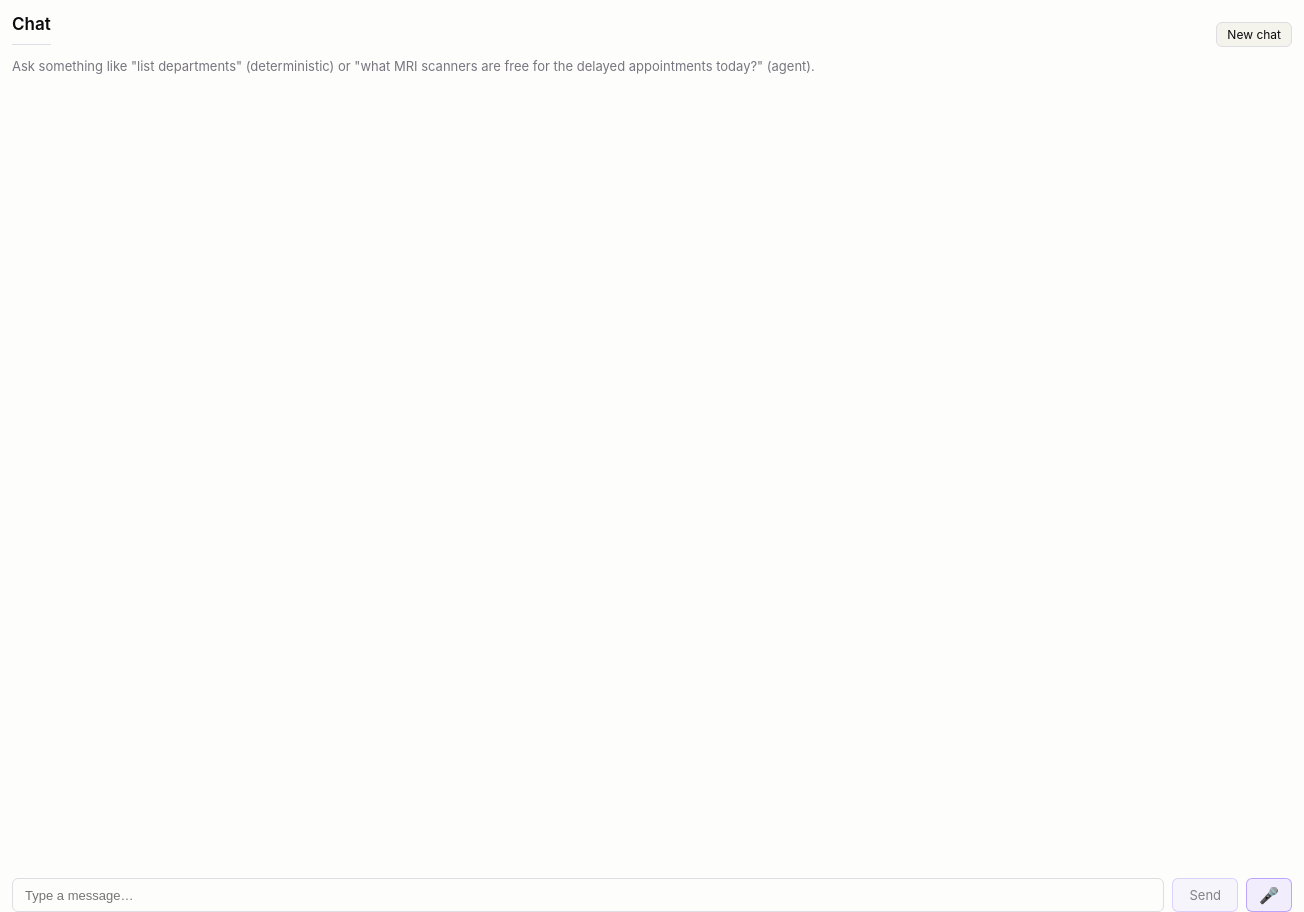
Test case: BedActionConfirmation in the chat › Cancel posts the right ids, shows the message and removes the card
Type "admit PT-1029" into the field with placeholder "Type a message…" at coordinates (588, 895), box [12,878,1164,911]
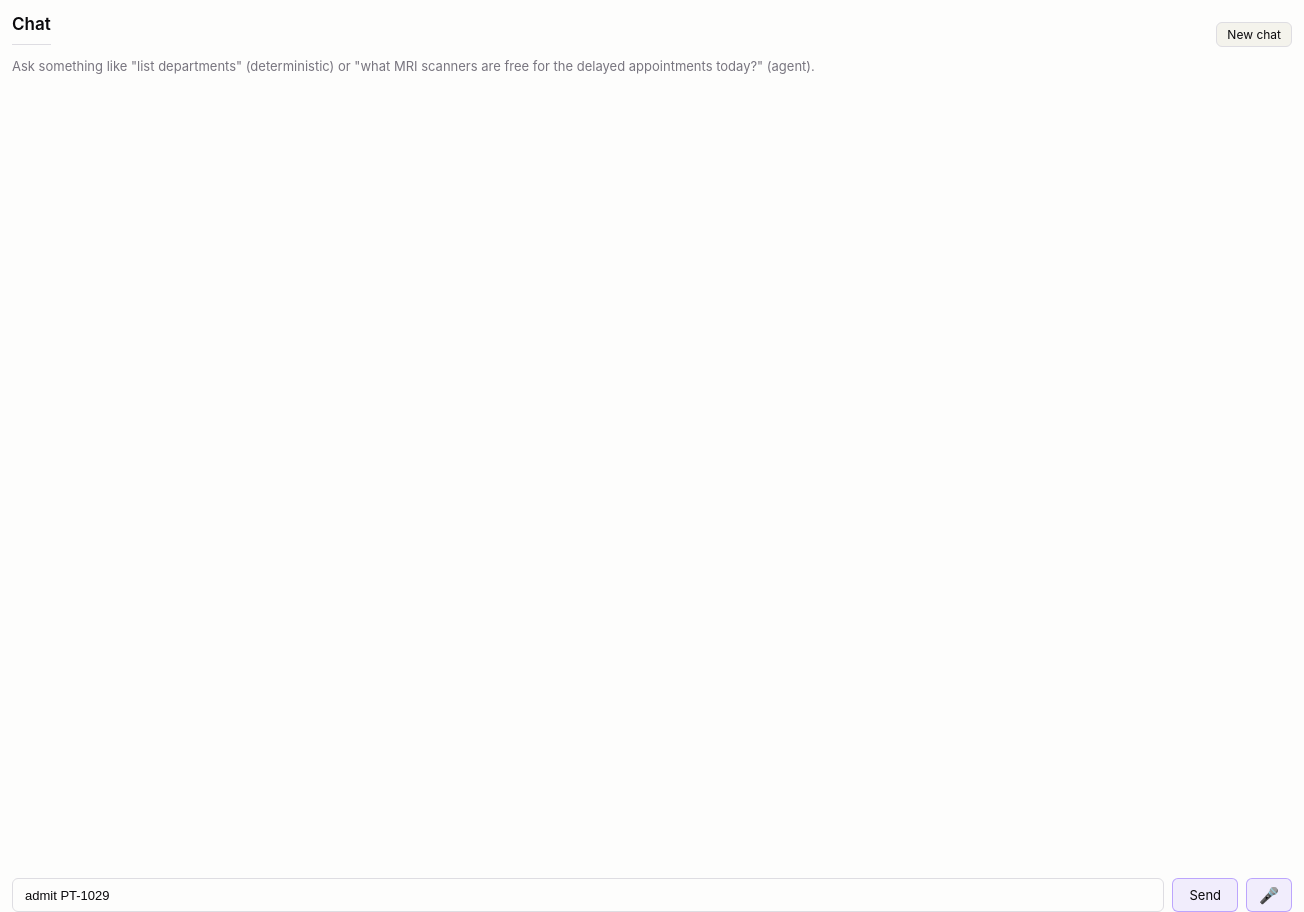
Click the button "Send" at coordinates (1205, 895), box [1172,878,1238,911]
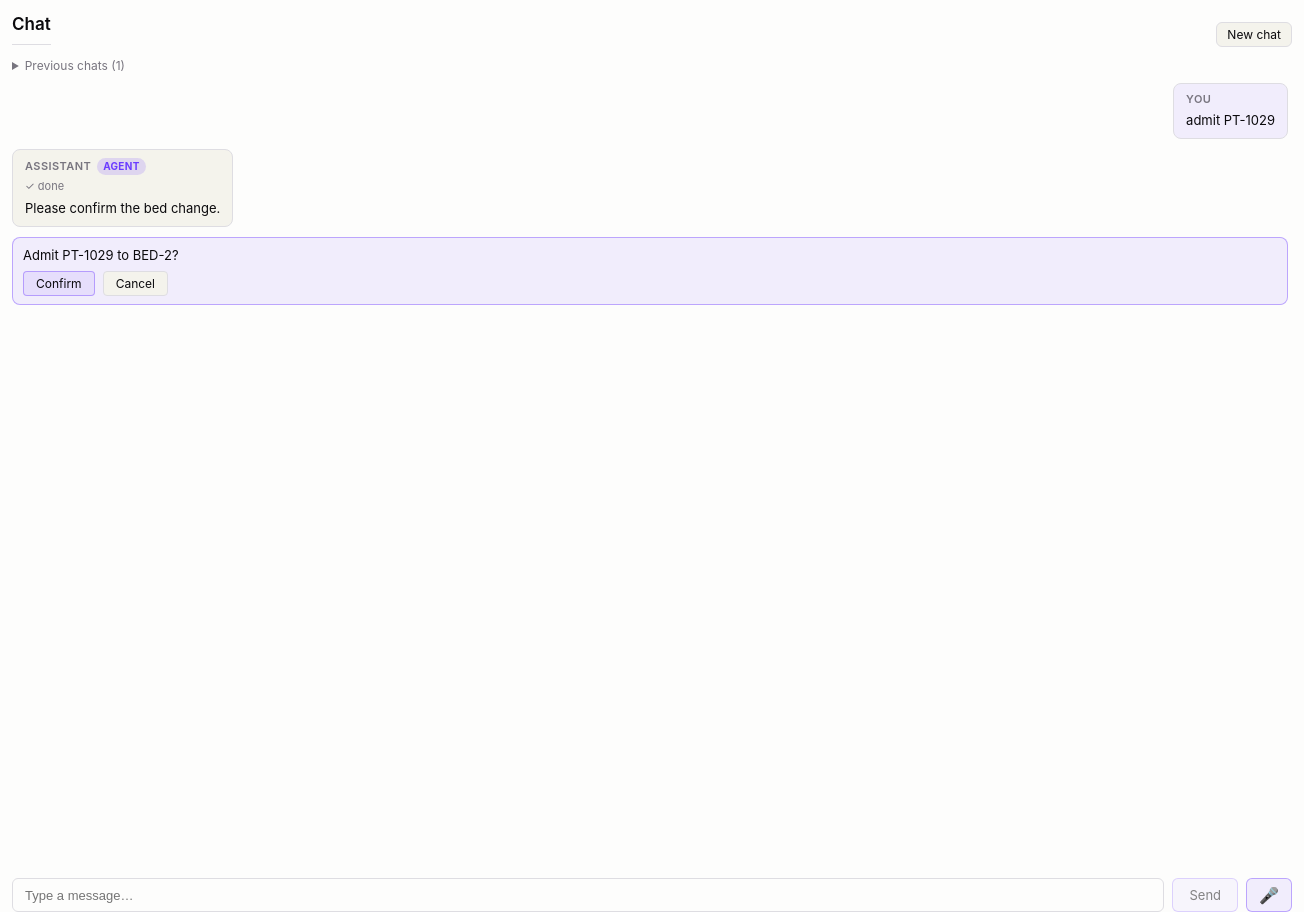
expect the text "Please confirm the bed change." is shown: met, box [25,199,220,218]
Click the button with aria-label "Cancel admitting PT-1029 to BED-2" at coordinates (135, 284), box [103,271,168,296]
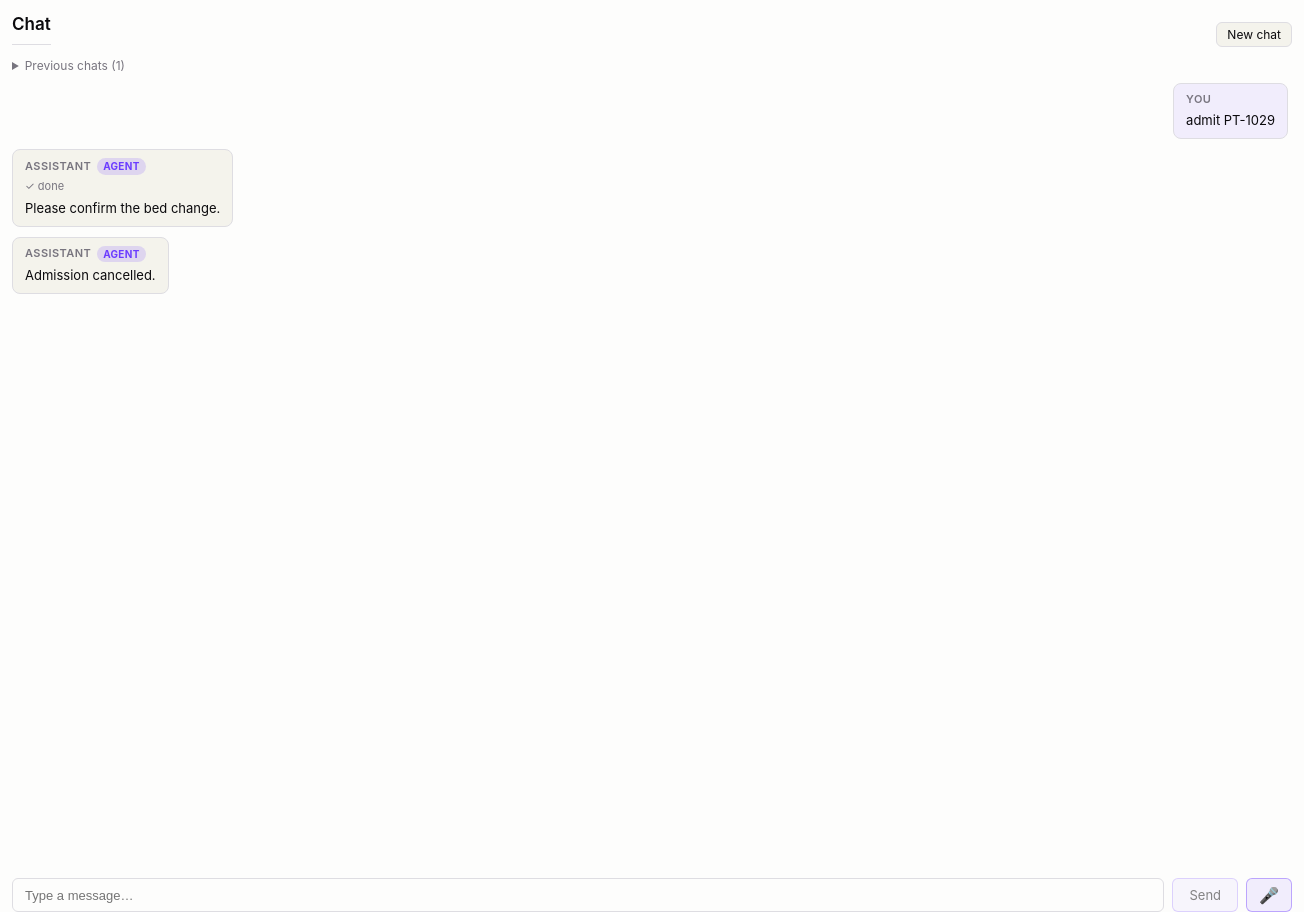
expect the text "Admission cancelled." is shown: met, box [25,266,156,285]
